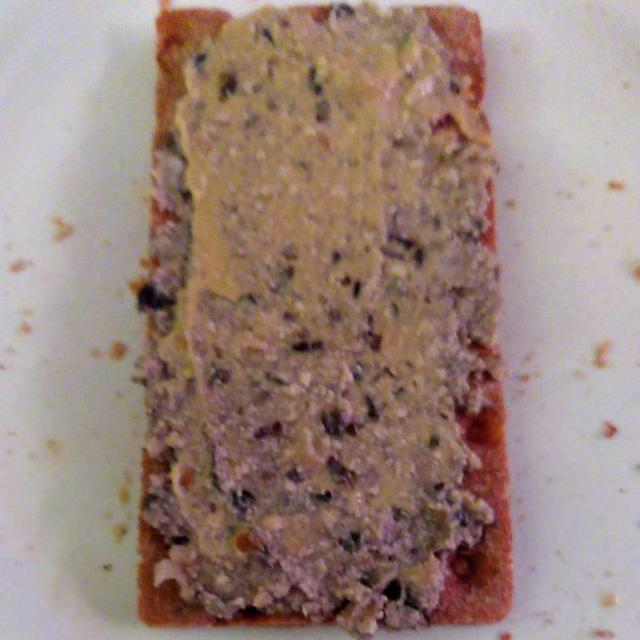crisp-bread-wasa: (135, 18, 505, 596)
